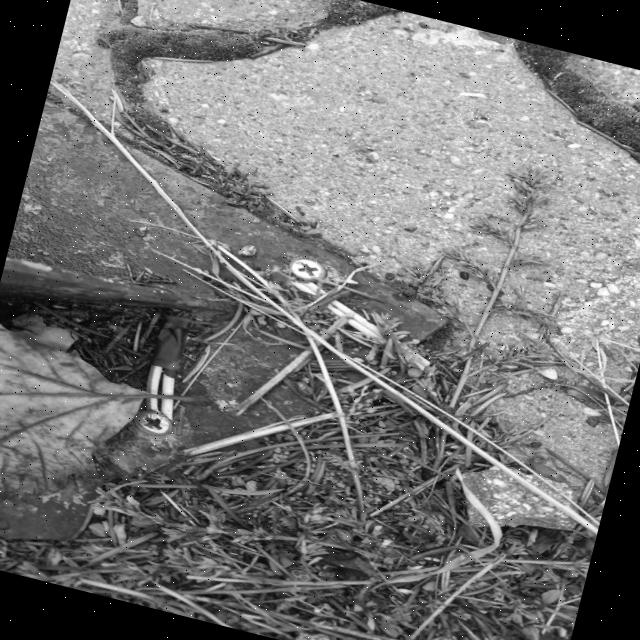Phillips: (125, 406, 183, 444), (280, 253, 332, 286)
